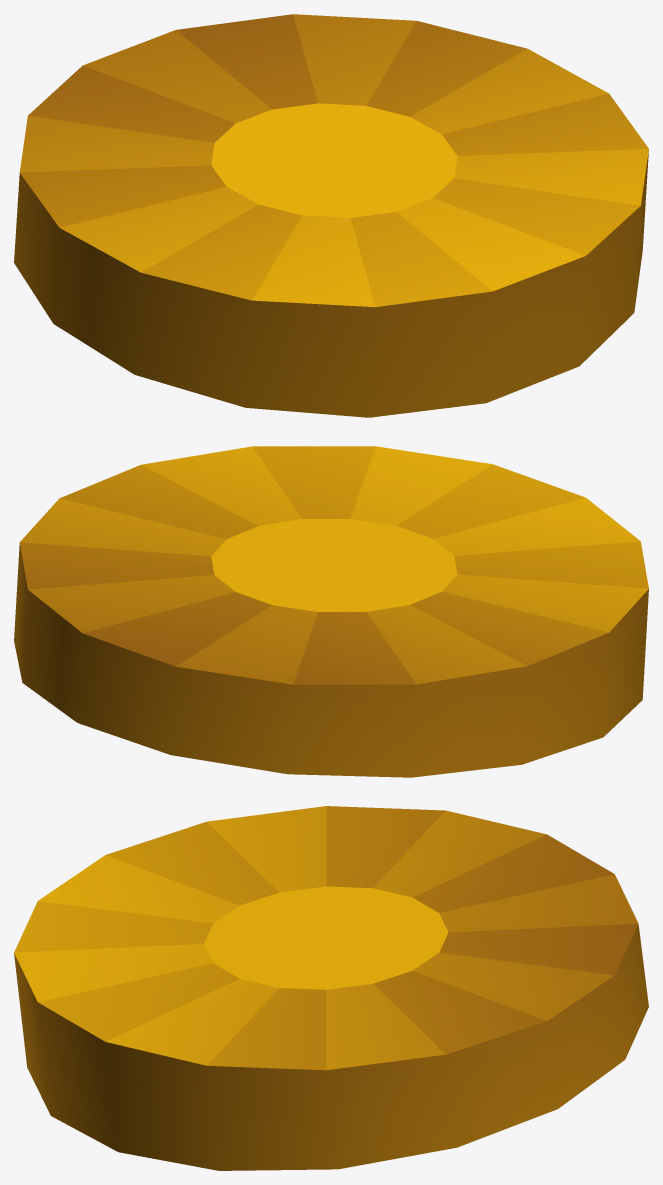
File: 3D_Slicer_Items_Carrott-slice-solo.fbx
3 views of the same model, one above another, from view 1: azimuth 30°, elevation 25°; view 2: azimuth 150°, elevation 25°; view 3: azimuth 270°, elevation 25° (orthographic).
Parts seen in each view (by area): view 1: 3D_Slicer_Items_Carrott-slice.TEST; view 2: 3D_Slicer_Items_Carrott-slice.TEST; view 3: 3D_Slicer_Items_Carrott-slice.TEST.
Part boxes in pixels (bbox=[...]): 3D_Slicer_Items_Carrott-slice.TEST: bbox=[14, 14, 648, 417]; 3D_Slicer_Items_Carrott-slice.TEST: bbox=[14, 446, 648, 777]; 3D_Slicer_Items_Carrott-slice.TEST: bbox=[14, 806, 648, 1170].
Size of the model in its own units: 40.46 by 10.28 by 41.08.
